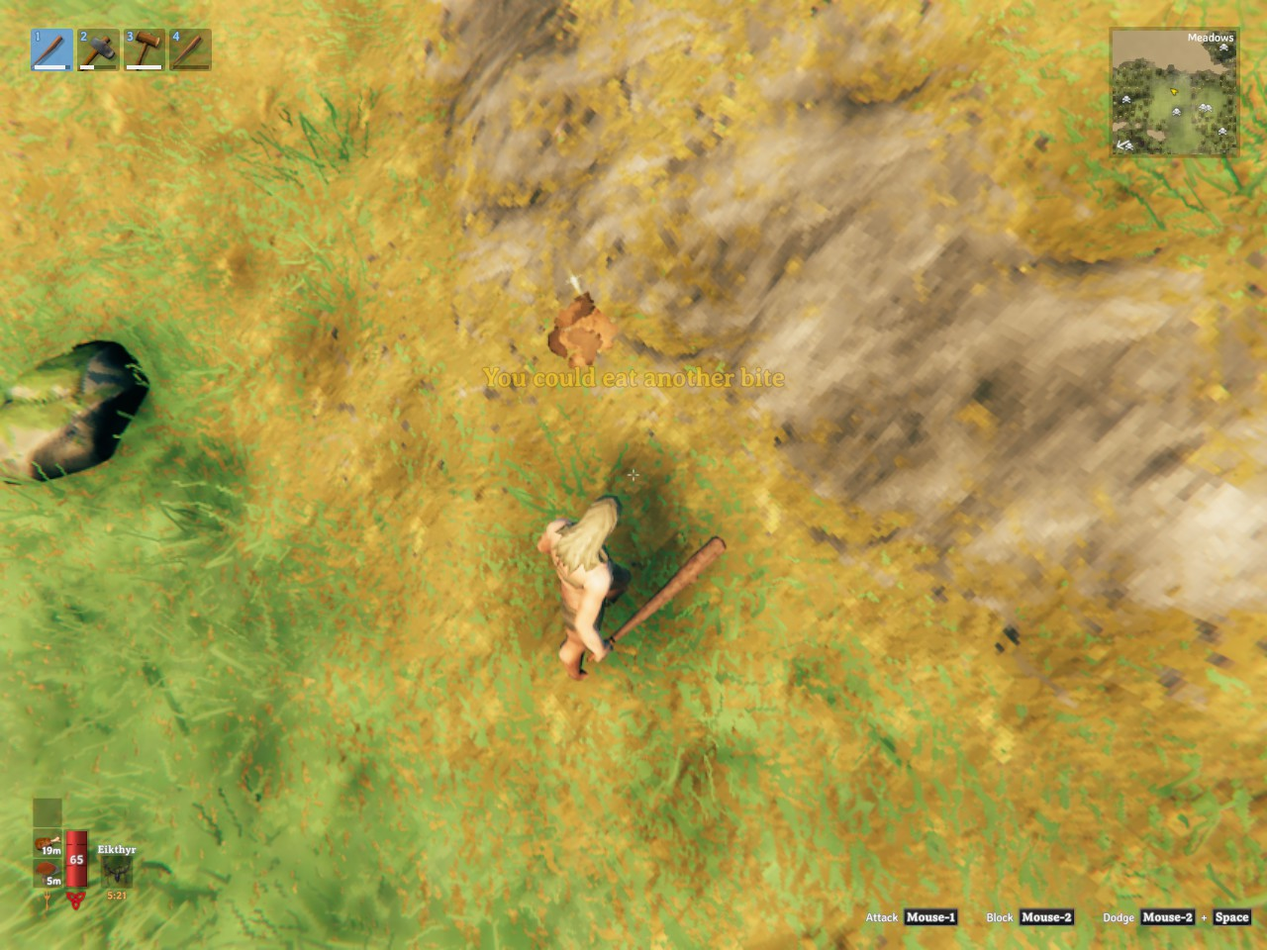Club: (613, 536, 725, 643)
Food Indicator: (36, 797, 63, 891)
Health Bar: (63, 826, 90, 891)
Hotbar: (25, 21, 398, 78)
Leather Scraps: (547, 292, 619, 367)
